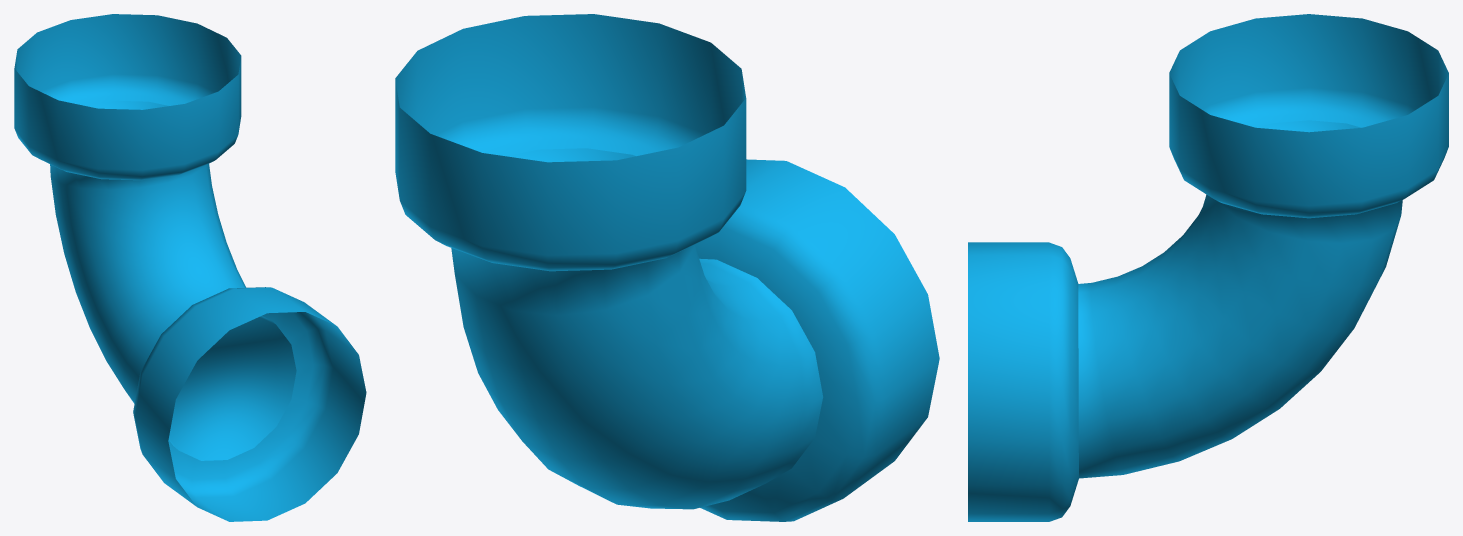
The model's file is pipe_angle_mini_cap.gltf.
3 views of the same model, side by side, from view 1: azimuth 30°, elevation 25°; view 2: azimuth 150°, elevation 25°; view 3: azimuth 270°, elevation 25° (orthographic). The views are drawn at different scales.
Parts seen in each view (by area): view 1: pipe_angle_mini_cap; view 2: pipe_angle_mini_cap; view 3: pipe_angle_mini_cap.
Boxes of the visible parts, bbox=[...] form: pipe_angle_mini_cap: bbox=[14, 14, 366, 521]; pipe_angle_mini_cap: bbox=[395, 14, 939, 521]; pipe_angle_mini_cap: bbox=[968, 14, 1448, 521].
Size of the model in its own units: 0.5742 by 0.9871 by 0.9871.
